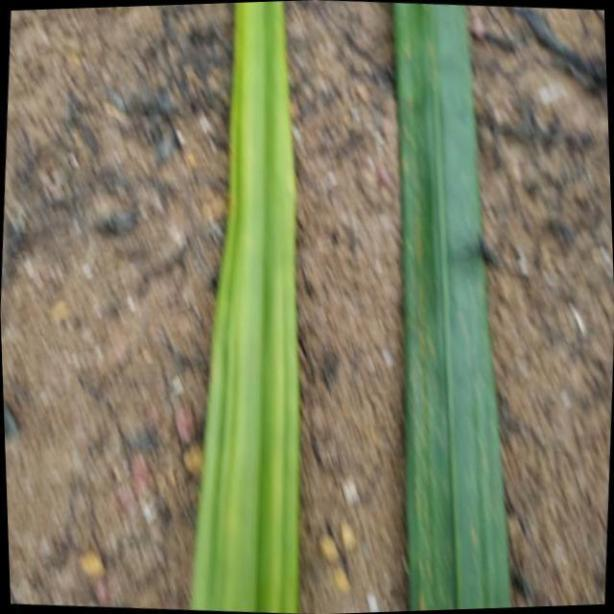nitrogen: (189, 0, 297, 614)
